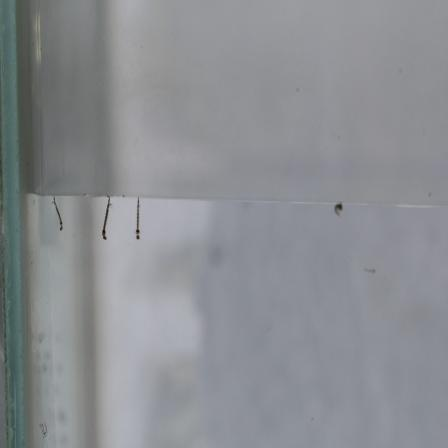Jentik-Nyamuk: (97, 193, 113, 245), (47, 195, 67, 235), (130, 194, 143, 244), (329, 199, 346, 222)
